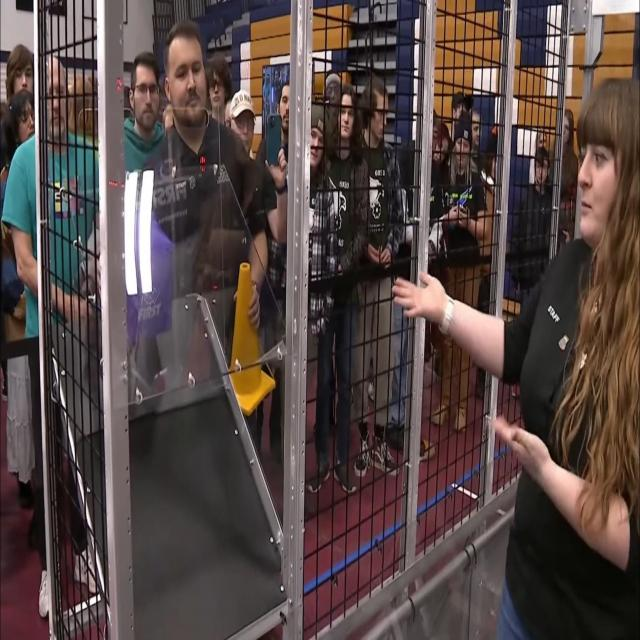frc_cone: (214, 265, 272, 411)
frc_cube: (106, 210, 180, 367)
